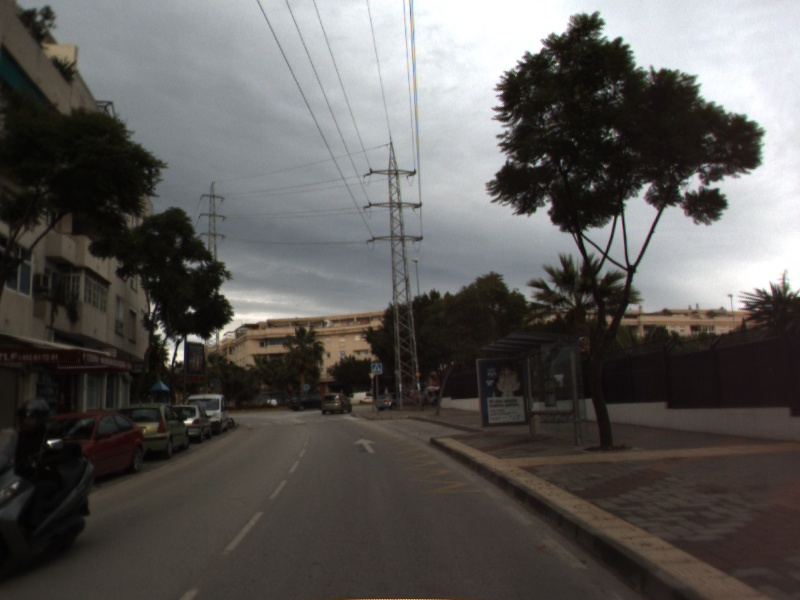STRAIGHT: (352, 436, 379, 455)
